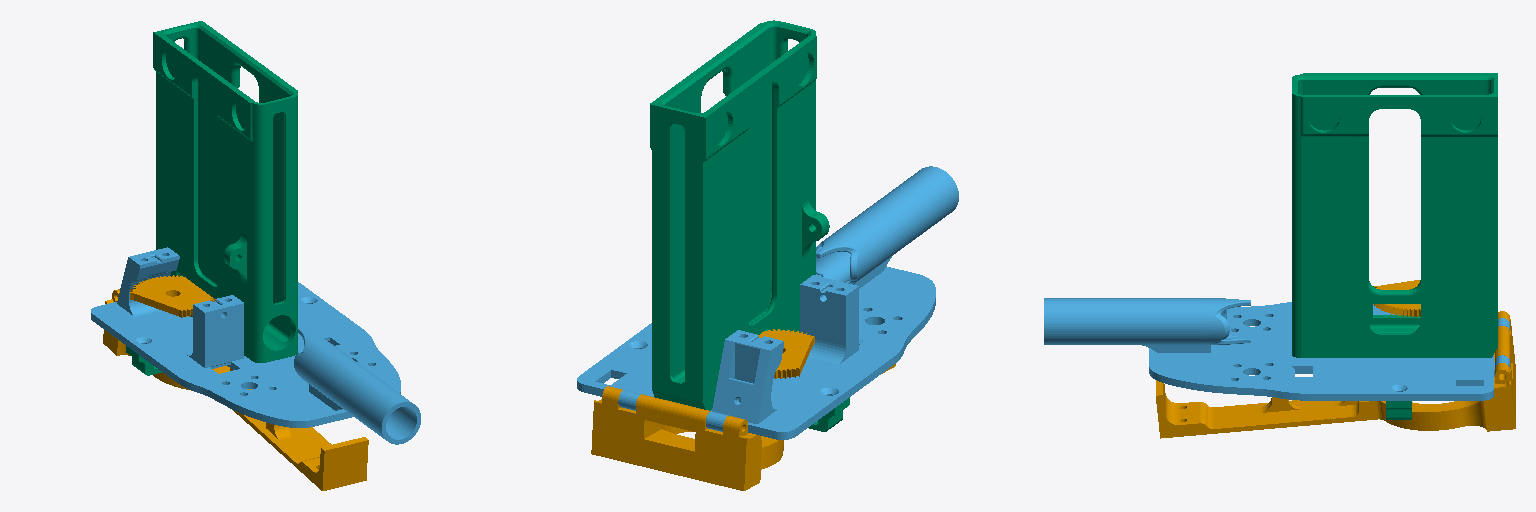
URDF robot description (Nerf_dart_launcher):
<?xml version='1.0' encoding='utf-8'?>
<robot name="Nerf_dart_launcher">
    <link name="Montageplatte">
        <inertial>
            <origin xyz="-0.01475696086461896 0.035654652982680536 -0.013863007952839576" rpy="-2.4600458649679455e-91 -0.0 0.0" />
            <mass value="0.2021986172178209" />
            <inertia ixx="0.0004164048980779426" iyy="5.362127850968902e-05" izz="0.0003755793053200324" ixy="1.5574886339584447e-05" iyz="1.294564632218199e-06" ixz="9.440243990827335e-08" />
        </inertial>
        <visual name="Montageplatte_visual">
            <origin xyz="0.0011922341116771707 0.10354220594792399 -0.08892309163261518" rpy="-3.141592653589793 -1.5707963267948961 0" />
            <geometry>
                <mesh filename="meshes/Montageplatte.stl" scale="0.001 0.001 0.001" />
            </geometry>
        </visual>
        <collision name="Montageplatte_collision">
            <origin xyz="0.0011922341116771707 0.10354220594792399 -0.08892309163261518" rpy="-3.141592653589793 -1.5707963267948961 0" />
            <geometry>
                <mesh filename="meshes/Montageplatte.stl" scale="0.001 0.001 0.001" />
            </geometry>
        </collision>
    </link>
    <link name="Motor_und_Magazinplatte">
        <inertial>
            <origin xyz="-0.004359795554973456 0.03358258183969927 0.001265120837734419" rpy="0.0 0.0 0.0" />
            <mass value="0.24458145922412514" />
            <inertia ixx="0.0003647641226204799" iyy="0.00013686964150421205" izz="0.0004819759926625069" ixy="2.0860948198504204e-05" iyz="-1.3010298439075528e-05" ixz="1.0722200926243334e-05" />
        </inertial>
        <visual name="Motor_und_Magazinplatte_visual">
            <origin xyz="0.0 0.0 0.0" rpy="0.0 0.0 0.0" />
            <geometry>
                <mesh filename="meshes/Motor_und_Magazinplatte.stl" scale="0.001 0.001 0.001" />
            </geometry>
        </visual>
        <collision name="Motor_und_Magazinplatte_collision">
            <origin xyz="0.0 0.0 0.0" rpy="0.0 0.0 0.0" />
            <geometry>
                <mesh filename="meshes/Motor_und_Magazinplatte.stl" scale="0.001 0.001 0.001" />
            </geometry>
        </collision>
    </link>
    <link name="Dart-Tray">
        <inertial>
            <origin xyz="-0.00010653839468144038 -0.025288447180155806 -0.04791181620740161" rpy="0.0 -0.0 -3.985051008122404e-66" />
            <mass value="0.3738306581420113" />
            <inertia ixx="0.0007705630795353672" iyy="0.0005242439068715325" izz="0.0002956222039192135" ixy="1.47298558348824e-06" iyz="-2.5974240771499857e-05" ixz="2.161764697209049e-07" />
        </inertial>
        <visual name="Dart-Tray_visual">
            <origin xyz="0.009995371385116589 0.07019349865745103 -0.09591296688796005" rpy="0.0963871984456486 -2.0429366615881725e-15 -3.141526766465599" />
            <geometry>
                <mesh filename="meshes/Dart-Tray.stl" scale="0.001 0.001 0.001" />
            </geometry>
        </visual>
        <collision name="Dart-Tray_collision">
            <origin xyz="0.009995371385116589 0.07019349865745103 -0.09591296688796005" rpy="0.0963871984456486 -2.0429366615881725e-15 -3.141526766465599" />
            <geometry>
                <mesh filename="meshes/Dart-Tray.stl" scale="0.001 0.001 0.001" />
            </geometry>
        </collision>
    </link>
    <link name="Racerstar-BR2205-2300KV">
        <inertial>
            <origin xyz="6.353747286969024e-08 -0.0007339570689727548 -0.00881189168728227" rpy="0.0 -0.0 -3.985051008122404e-66" />
            <mass value="0.062400101460318526" />
            <inertia ixx="4.499632803687365e-06" iyy="4.5891481842654696e-06" izz="5.8317789246674205e-06" ixy="7.820732194352962e-09" iyz="7.46080873829778e-08" ixz="-7.320143654033768e-10" />
        </inertial>
        <visual name="Racerstar-BR2205-2300KV_visual">
            <origin xyz="-3.801794399294067e-09 1.9128933992362817e-11 2.0267300948617618e-09" rpy="-1.6390580001891346 0.06810318885371751 0.7831378305873457" />
            <geometry>
                <mesh filename="meshes/Racerstar-BR2205-2300KV.stl" scale="0.001 0.001 0.001" />
            </geometry>
        </visual>
        <collision name="Racerstar-BR2205-2300KV_collision">
            <origin xyz="-3.801794399294067e-09 1.9128933992362817e-11 2.0267300948617618e-09" rpy="-1.6390580001891346 0.06810318885371751 0.7831378305873457" />
            <geometry>
                <mesh filename="meshes/Racerstar-BR2205-2300KV.stl" scale="0.001 0.001 0.001" />
            </geometry>
        </collision>
    </link>
    <link name="Racerstar-BR2205-2300KV1">
        <inertial>
            <origin xyz="6.363514787555147e-08 -0.0007339619895593552 -0.008811891687282207" rpy="0.0 -0.0 -3.985051008122404e-66" />
            <mass value="0.062400101460318526" />
            <inertia ixx="4.499632803687311e-06" iyy="4.589148184265524e-06" izz="5.831778924667502e-06" ixy="7.820732194359738e-09" iyz="7.460808738295069e-08" ixz="-7.320143654101531e-10" />
        </inertial>
        <visual name="Racerstar-BR2205-2300KV1_visual">
            <origin xyz="-3.7041193934328477e-09 -4.901457661965481e-09 2.0267302014431722e-09" rpy="-1.639058000189134 0.06810318885371679 0.7831378305873479" />
            <geometry>
                <mesh filename="meshes/Racerstar-BR2205-2300KV1.stl" scale="0.001 0.001 0.001" />
            </geometry>
        </visual>
        <collision name="Racerstar-BR2205-2300KV1_collision">
            <origin xyz="-3.7041193934328477e-09 -4.901457661965481e-09 2.0267302014431722e-09" rpy="-1.639058000189134 0.06810318885371679 0.7831378305873479" />
            <geometry>
                <mesh filename="meshes/Racerstar-BR2205-2300KV1.stl" scale="0.001 0.001 0.001" />
            </geometry>
        </collision>
    </link>
    <link name="Servo-TD8320MG-TD8325MG">
        <inertial>
            <origin xyz="-0.004998318020601904 -0.02546639090865126 -0.008701016354448888" rpy="0.0 -0.0 4.860947544505897e-40" />
            <mass value="0.26161409234448435" />
            <inertia ixx="7.109172214698426e-05" iyy="4.244274255359604e-05" izz="4.687361627079341e-05" ixy="1.8875757162005197e-09" iyz="6.617694326018358e-08" ixz="-4.370836270302194e-12" />
        </inertial>
        <visual name="Servo-TD8320MG-TD8325MG_visual">
            <origin xyz="-0.004998332736296394 -0.0252429939884319 -0.00805809992809504" rpy="1.5707963267948957 -0.09638719844564837 -1.5707304396707011" />
            <geometry>
                <mesh filename="meshes/Servo-TD8320MG-TD8325MG.stl" scale="0.001 0.001 0.001" />
            </geometry>
        </visual>
        <collision name="Servo-TD8320MG-TD8325MG_collision">
            <origin xyz="-0.004998332736296394 -0.0252429939884319 -0.00805809992809504" rpy="1.5707963267948957 -0.09638719844564837 -1.5707304396707011" />
            <geometry>
                <mesh filename="meshes/Servo-TD8320MG-TD8325MG.stl" scale="0.001 0.001 0.001" />
            </geometry>
        </collision>
    </link>
    <link name="Launcher_wheel_v1">
        <inertial>
            <origin xyz="-3.4390518575122545e-08 0.0028107889863127956 -0.00027179473970162515" rpy="0.0 -0.0 0.0" />
            <mass value="0.05069354299067629" />
            <inertia ixx="7.111397256134313e-06" iyy="1.1882051413700434e-05" izz="7.134628636162468e-06" ixy="4.4358902569267424e-10" iyz="-4.6333735416951427e-07" ixz="4.8573742842009755e-09" />
        </inertial>
        <visual name="Launcher_wheel_v1_visual">
            <origin xyz="0.018842831951028576 0.004700465957601905 -0.0881272922158252" rpy="1.1412271251111257 1.3376136560680079 -0.4192673044951444" />
            <geometry>
                <mesh filename="meshes/Launcher_wheel_v1.stl" scale="0.001 0.001 0.001" />
            </geometry>
        </visual>
        <collision name="Launcher_wheel_v1_collision">
            <origin xyz="0.018842831951028576 0.004700465957601905 -0.0881272922158252" rpy="1.1412271251111257 1.3376136560680079 -0.4192673044951444" />
            <geometry>
                <mesh filename="meshes/Launcher_wheel_v1.stl" scale="0.001 0.001 0.001" />
            </geometry>
        </collision>
    </link>
    <link name="Launcher_wheel">
        <inertial>
            <origin xyz="-3.165422081341518e-08 0.0028107888717013906 -0.0002718008458635568" rpy="0.0 -0.0 6.162975822039155e-33" />
            <mass value="0.05069354299067629" />
            <inertia ixx="7.110260968347819e-06" iyy="1.1882062018701812e-05" izz="7.135754318946734e-06" ixy="6.332822672149637e-10" iyz="-4.6322809275488737e-07" ixz="6.826748091800312e-09" />
        </inertial>
        <visual name="Launcher_wheel_visual">
            <origin xyz="0.02716666713556573 0.004914418598712436 -0.08591500341696692" rpy="1.2631460250780786 1.2473817907857274 -0.29261124738612854" />
            <geometry>
                <mesh filename="meshes/Launcher_wheel.stl" scale="0.001 0.001 0.001" />
            </geometry>
        </visual>
        <collision name="Launcher_wheel_collision">
            <origin xyz="0.02716666713556573 0.004914418598712436 -0.08591500341696692" rpy="1.2631460250780786 1.2473817907857274 -0.29261124738612854" />
            <geometry>
                <mesh filename="meshes/Launcher_wheel.stl" scale="0.001 0.001 0.001" />
            </geometry>
        </collision>
    </link>
    <link name="Dart_Pusher">
        <inertial>
            <origin xyz="0.0017340570867505245 0.001750303072383712 0.00044608103029305737" rpy="0.0 -0.0 0.0" />
            <mass value="0.01733330859445771" />
            <inertia ixx="1.178284386688638e-06" iyy="2.0001057087760267e-06" izz="8.875166309535193e-07" ixy="1.8082680865777516e-08" iyz="-1.0626693560776494e-07" ixz="1.20340184991732e-07" />
        </inertial>
        <visual name="Dart_Pusher_visual">
            <origin xyz="-3.826988899113815e-09 -3.28347177003252e-09 -4.956094654673393e-09" rpy="1.6729053846660997 0.3358149283282009 -3.1078327887699557" />
            <geometry>
                <mesh filename="meshes/Dart_Pusher.stl" scale="0.001 0.001 0.001" />
            </geometry>
        </visual>
        <collision name="Dart_Pusher_collision">
            <origin xyz="-3.826988899113815e-09 -3.28347177003252e-09 -4.956094654673393e-09" rpy="1.6729053846660997 0.3358149283282009 -3.1078327887699557" />
            <geometry>
                <mesh filename="meshes/Dart_Pusher.stl" scale="0.001 0.001 0.001" />
            </geometry>
        </collision>
    </link>
    <link name="Turret">
        <inertial>
            <origin xyz="2.4328943666910708e-05 0.010236944867149109 -0.01198054892691995" rpy="0.0 -0.0 -3.985051008122404e-66" />
            <mass value="0.0611488221940506" />
            <inertia ixx="2.7772436235341813e-05" iyy="4.549335231050723e-06" izz="2.6889581454053464e-05" ixy="5.390919403612734e-08" iyz="3.043851684851026e-06" ixz="-3.52864768208209e-09" />
        </inertial>
        <visual name="Turret_visual">
            <origin xyz="0.008938859905752843 0.0682485882231238 -0.004409692086192507" rpy="3.0452054551441448 1.974924472499007e-15 6.588712419443115e-05" />
            <geometry>
                <mesh filename="meshes/Turret.stl" scale="0.001 0.001 0.001" />
            </geometry>
        </visual>
        <collision name="Turret_collision">
            <origin xyz="0.008938859905752843 0.0682485882231238 -0.004409692086192507" rpy="3.0452054551441448 1.974924472499007e-15 6.588712419443115e-05" />
            <geometry>
                <mesh filename="meshes/Turret.stl" scale="0.001 0.001 0.001" />
            </geometry>
        </collision>
    </link>
    <link name="esc_halterung">
        <inertial>
            <origin xyz="-4.298077916867328e-08 -0.0005819717265367919 -0.0060191962221211835" rpy="0.0 -0.0 3.985051008122404e-66" />
            <mass value="0.024717823494262662" />
            <inertia ixx="4.667181102897877e-07" iyy="1.6355531435957932e-05" izz="1.631071112901064e-05" ixy="1.0468682229940634e-09" iyz="-4.374432639242122e-09" ixz="-2.882188948470875e-13" />
        </inertial>
        <visual name="esc_halterung_visual">
            <origin xyz="-0.02350037370699941 -0.005600785581929695 -0.005988641212081356" rpy="-3.045205455144143 4.609973124293469e-15 3.141526766465599" />
            <geometry>
                <mesh filename="meshes/esc_halterung.stl" scale="0.001 0.001 0.001" />
            </geometry>
        </visual>
        <collision name="esc_halterung_collision">
            <origin xyz="-0.02350037370699941 -0.005600785581929695 -0.005988641212081356" rpy="-3.045205455144143 4.609973124293469e-15 3.141526766465599" />
            <geometry>
                <mesh filename="meshes/esc_halterung.stl" scale="0.001 0.001 0.001" />
            </geometry>
        </collision>
    </link>
    <joint name="Motor_und_Magazinplatte_Starr-1" type="fixed">
        <origin xyz="5.068941492999556e-09 0.03633437473973884 -0.0010000001640259493" rpy="-3.0452054553520647 -6.3408463920637605e-06 6.558129917668899e-05" />
        <parent link="Motor_und_Magazinplatte" />
        <child link="Dart-Tray" />
    </joint>
    <joint name="Motor_und_Magazinplatte_Starr-2" type="fixed">
        <origin xyz="0.02250000380179312 0.0010342982673410494 2.01918775033505e-09" rpy="-3.0452054553520647 -6.3408463920637605e-06 6.558129917668899e-05" />
        <parent link="Motor_und_Magazinplatte" />
        <child link="Racerstar-BR2205-2300KV" />
    </joint>
    <joint name="Motor_und_Magazinplatte_Umdrehung-9" type="revolute">
        <origin xyz="0.013700002396642215 0.09803429898457079 5.2355448865171186e-11" rpy="-1.5707304396707225 -1.4744091283492464 -1.5707963267948832" />
        <parent link="Motor_und_Magazinplatte" />
        <child link="Montageplatte" />
        <axis xyz="-3.3673535311950082e-22 6.6e-05 1.0" />
        <limit lower="0.0" upper="1.22173" effort="1000000" velocity="1000000" />
    </joint>
    <joint name="Motor_und_Magazinplatte_Starr-3" type="fixed">
        <origin xyz="-0.02249999629555762 0.0010342933695876866 1.5456397051138993e-09" rpy="-3.0452054553520647 -6.3408463920637605e-06 6.558129917668899e-05" />
        <parent link="Motor_und_Magazinplatte" />
        <child link="Racerstar-BR2205-2300KV1" />
    </joint>
    <joint name="Motor_und_Magazinplatte_Starr-4" type="fixed">
        <origin xyz="-0.015600004086274013 0.029634297052906267 0.0239999988873598" rpy="-3.0452054553520647 -6.3408463920637605e-06 6.558129917668899e-05" />
        <parent link="Motor_und_Magazinplatte" />
        <child link="Servo-TD8320MG-TD8325MG" />
    </joint>
    <joint name="Racerstar-BR2205-2300KV1_Umdrehung-5" type="continuous">
        <origin xyz="1.100000000020529e-07 -0.0016841699999999983 -0.01741877" rpy="1.5707963267948966 4.1633371764937074e-17 1.418735199579997e-21" />
        <parent link="Racerstar-BR2205-2300KV1" />
        <child link="Launcher_wheel_v1" />
        <axis xyz="6.00000000004144e-06 -0.9953579999999999 0.096238" />
    </joint>
    <joint name="Racerstar-BR2205-2300KV_Umdrehung-6" type="continuous">
        <origin xyz="1.100000000020529e-07 -0.0016841700000000026 -0.01741877" rpy="1.5707963267948966 4.857226566884431e-17 1.418735199579997e-21" />
        <parent link="Racerstar-BR2205-2300KV" />
        <child link="Launcher_wheel" />
        <axis xyz="6.000000000048346e-06 -0.995358 0.09623799999999999" />
    </joint>
    <joint name="Servo-TD8320MG-TD8325MG_Umdrehung-7" type="continuous">
        <origin xyz="-0.00499779 -0.03342228 0.013177630000000003" rpy="1.5707963267948966 1.574712396551846e-21 1.418735199579997e-21" />
        <parent link="Servo-TD8320MG-TD8325MG" />
        <child link="Dart_Pusher" />
        <axis xyz="-6.000000000000002e-06 0.995358 -0.096238" />
    </joint>
    <joint name="Motor_und_Magazinplatte_Starr-10" type="fixed">
        <origin xyz="3.98527563458907e-09 -0.031065700475959225 -0.0008000016505065188" rpy="-3.0452054553520647 -6.3408463920637605e-06 6.558129917668899e-05" />
        <parent link="Motor_und_Magazinplatte" />
        <child link="Turret" />
    </joint>
    <joint name="Motor_und_Magazinplatte_Starr-13" type="fixed">
        <origin xyz="4.636449240266163e-09 0.05803437448090696 -0.0029999984409753554" rpy="0.09638719823772844 -6.3408463920637605e-06 6.558129917668899e-05" />
        <parent link="Motor_und_Magazinplatte" />
        <child link="esc_halterung" />
    </joint>
</robot>

--- Render facts (derived) ---
3 views of the same robot in one strip: view 1: azimuth 30°, elevation 25°; view 2: azimuth 150°, elevation 25°; view 3: azimuth 270°, elevation 25° (orthographic).
Robot: Nerf_dart_launcher — 11 links, 10 joints (1 revolute, 3 continuous, 6 fixed); root link Motor_und_Magazinplatte; default pose: every joint at zero.
Links seen in each view (by area): view 1: Dart-Tray, Motor_und_Magazinplatte, Turret, Montageplatte, Dart_Pusher; view 2: Dart-Tray, Motor_und_Magazinplatte, Montageplatte, Turret, Dart_Pusher; view 3: Dart-Tray, Motor_und_Magazinplatte, Montageplatte, Turret, Dart_Pusher.
Link boxes in pixels (x1,y1,x2,y2): Dart-Tray: (153,21,297,362); Motor_und_Magazinplatte: (91,247,400,427); Turret: (294,328,420,444); Montageplatte: (103,289,368,490); Dart_Pusher: (130,275,215,317); Dart-Tray: (650,20,829,410); Motor_und_Magazinplatte: (577,266,935,439); Montageplatte: (591,364,895,490); Turret: (816,166,958,288); Dart_Pusher: (758,329,814,378); Dart-Tray: (1292,73,1497,357); Motor_und_Magazinplatte: (1149,302,1509,400); Montageplatte: (1156,311,1515,438); Turret: (1044,298,1250,352); Dart_Pusher: (1373,280,1420,316).
Bounding box of the posed robot: 0.085 × 0.1825 × 0.1463 m (x, y, z).
Meshes: 11 distinct files referenced, 6 mesh visuals loaded (6 binary STL); not drawn: 5 (reference not matched to a file when rendering).
